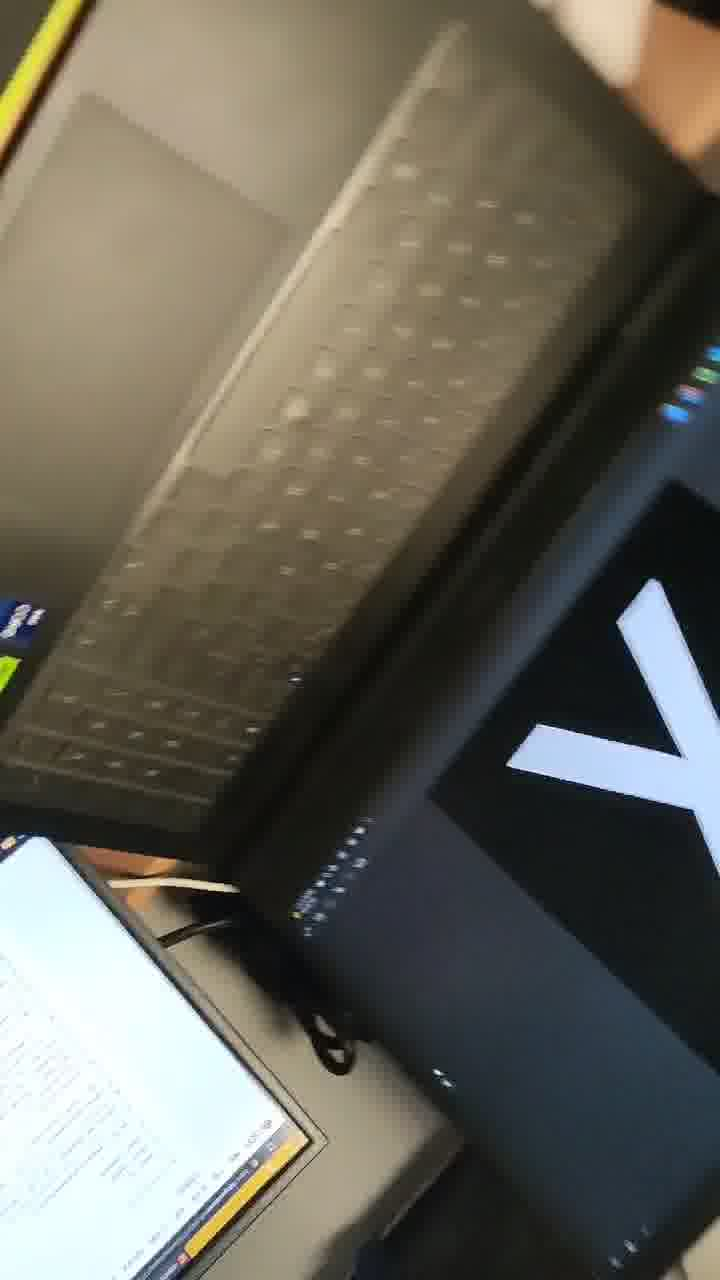X: (460, 517, 720, 938)
